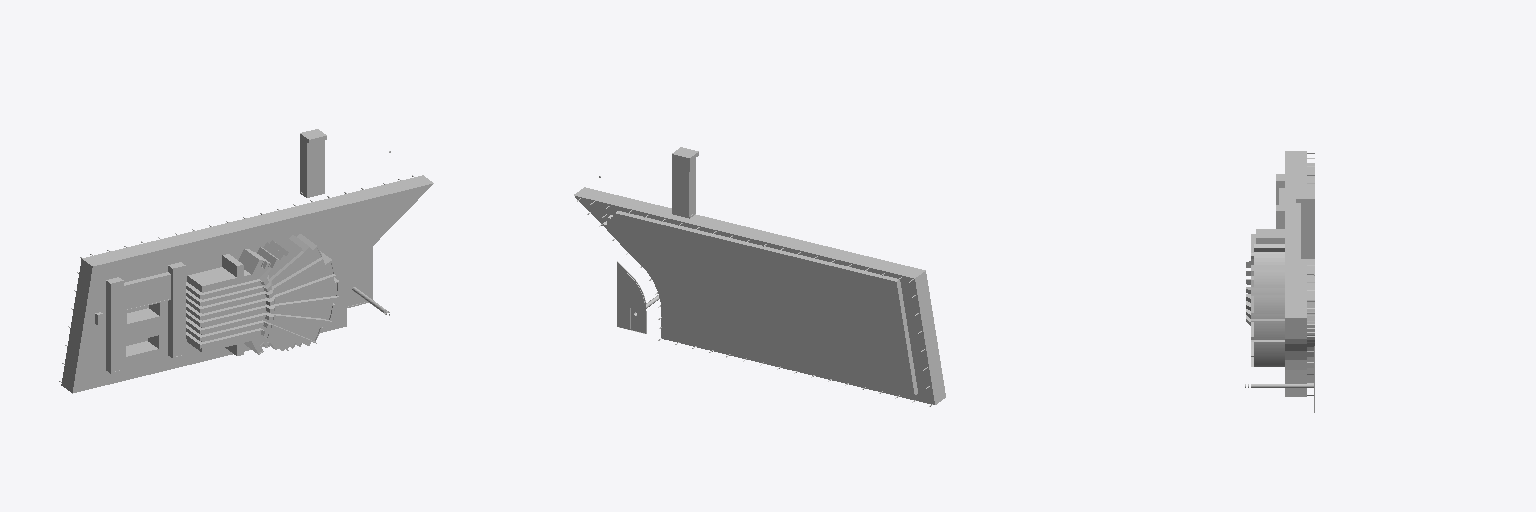
The model's file is grieghallen.obj.
The picture shows the model from 3 angles: view 1: azimuth 30°, elevation 25°; view 2: azimuth 150°, elevation 25°; view 3: azimuth 270°, elevation 25°; orthographic projection.
Visible parts, largest first — view 1: Component_4_1; view 2: Component_4_1; view 3: Component_4_1.
Boxes of the visible parts, x1,y1,x2,y2 form: Component_4_1: [59, 129, 433, 393]; Component_4_1: [574, 147, 945, 406]; Component_4_1: [1245, 151, 1314, 412].
Bounding box in the file's own units: 160 × 80.8 × 26.5.